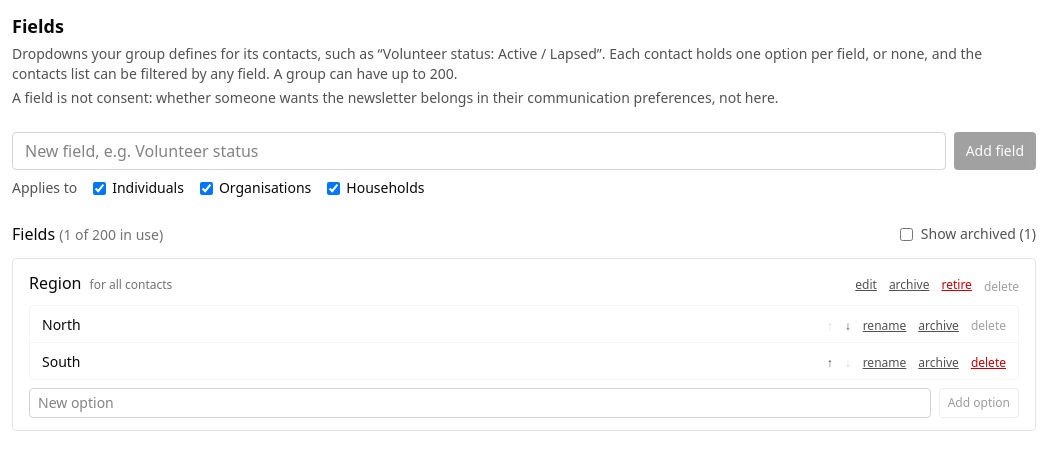
Test: an open option rename keeps its field shown when the field is archived
Step 1. Click the button "rename" in the row of "South" → (884, 363), box [863,355,906,371]
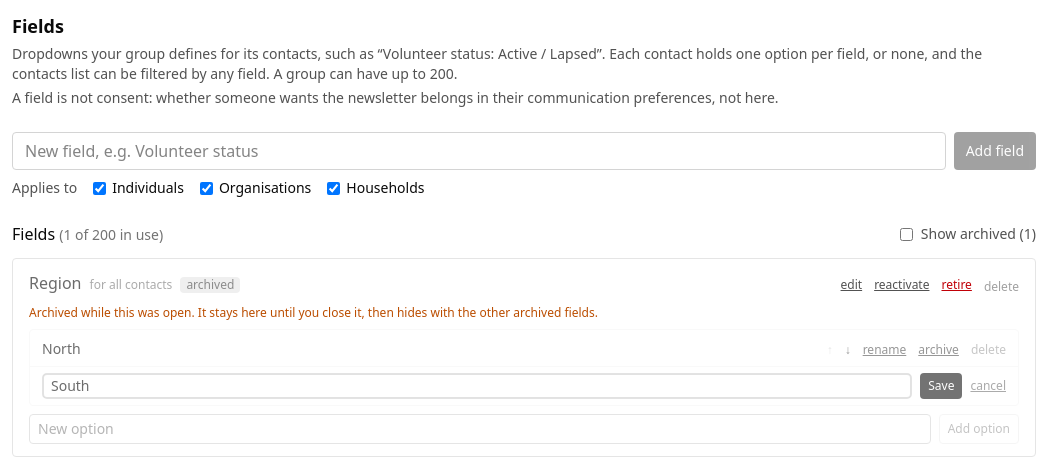
Expected: the field named "Rename South" is shown, [42,373,912,399]
Expected: the text "Archived while this was open" is shown, [29,304,598,321]
